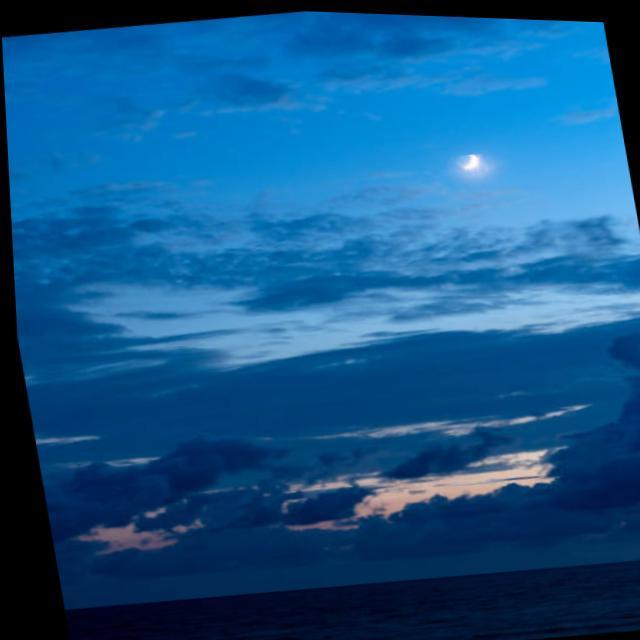moon: (444, 150, 484, 177)
